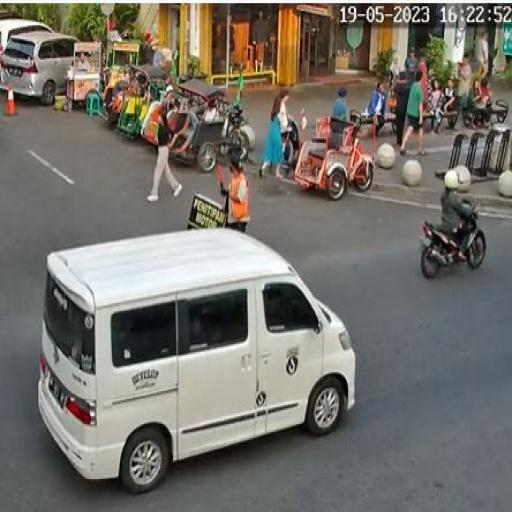mobil: (42, 228, 362, 492), (0, 30, 82, 104)
motor: (413, 186, 489, 282)
